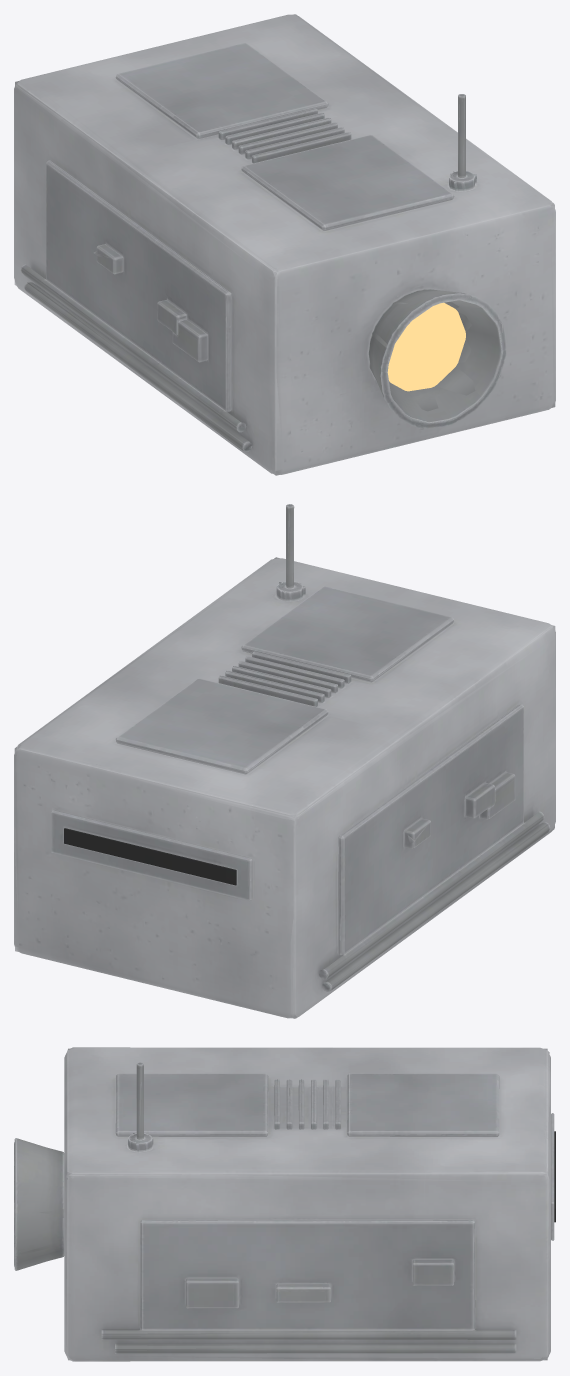
3 views of the same model, one above another, from view 1: azimuth 30°, elevation 25°; view 2: azimuth 150°, elevation 25°; view 3: azimuth 270°, elevation 25° (orthographic). The views are drawn at different scales.
Visible parts, largest first — view 1: LOD0_body, LOD1_body, LOD0_emit, LOD2_body; view 2: LOD0_body, LOD1_body, LOD2_body; view 3: LOD0_body, LOD1_body, LOD2_body.
Part boxes in pixels (left/top/right/bottom): LOD0_body: left=14, top=14, right=555, bottom=474; LOD1_body: left=15, top=14, right=555, bottom=474; LOD0_emit: left=387, top=302, right=465, bottom=391; LOD2_body: left=14, top=81, right=555, bottom=475; LOD0_body: left=14, top=504, right=555, bottom=1018; LOD1_body: left=14, top=504, right=554, bottom=1018; LOD2_body: left=14, top=557, right=555, bottom=1018; LOD0_body: left=14, top=1047, right=555, bottom=1361; LOD1_body: left=14, top=1047, right=553, bottom=1361; LOD2_body: left=14, top=1048, right=547, bottom=1360.
Size of the model in its own units: 1.11 by 1 by 1.78.
Materials: 2 (1 with a texture image).
